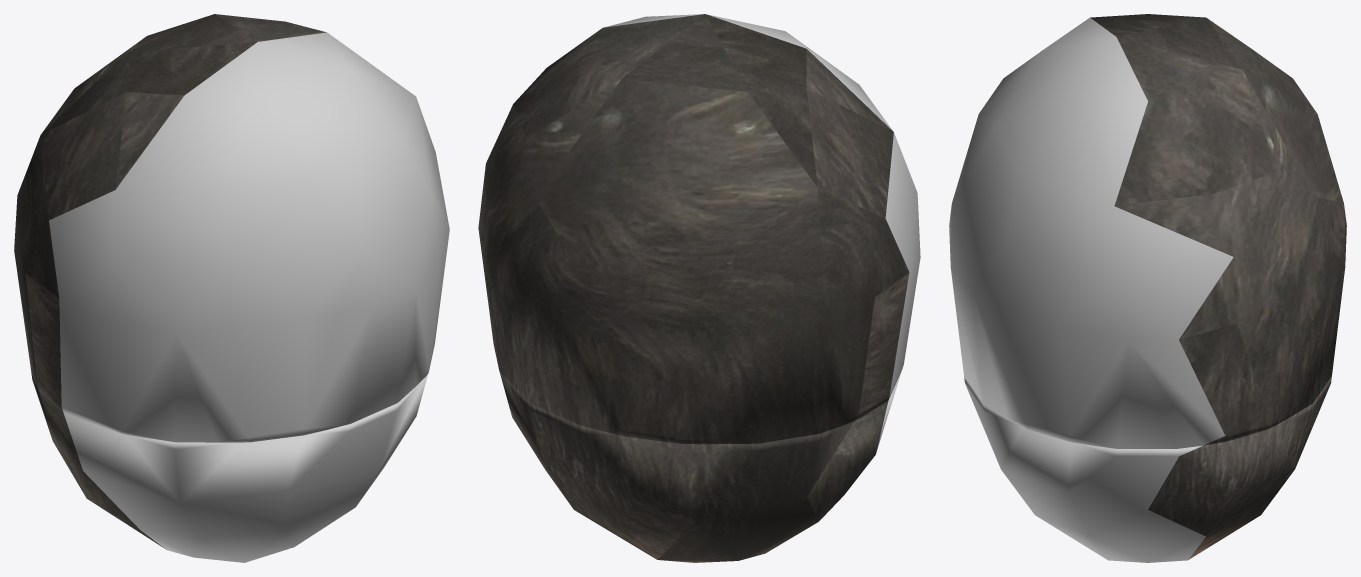
The model's file is AnimHead.fbx.
The picture shows the model from 3 angles, left to right: view 1: azimuth 30°, elevation 25°; view 2: azimuth 150°, elevation 25°; view 3: azimuth 270°, elevation 25°; orthographic projection.
Visible parts, largest first — view 1: Cube.002, Plane.020; view 2: Cube.002, Plane.020; view 3: Cube.002, Plane.020.
Boxes of the visible parts, <box> form: Cube.002: <box>14,14,449,442</box>; Plane.020: <box>31,372,427,562</box>; Cube.002: <box>478,14,920,444</box>; Plane.020: <box>500,371,901,562</box>; Cube.002: <box>949,14,1346,448</box>; Plane.020: <box>964,376,1331,562</box>.
Bounding box in the file's own units: 540 × 696 × 485.
